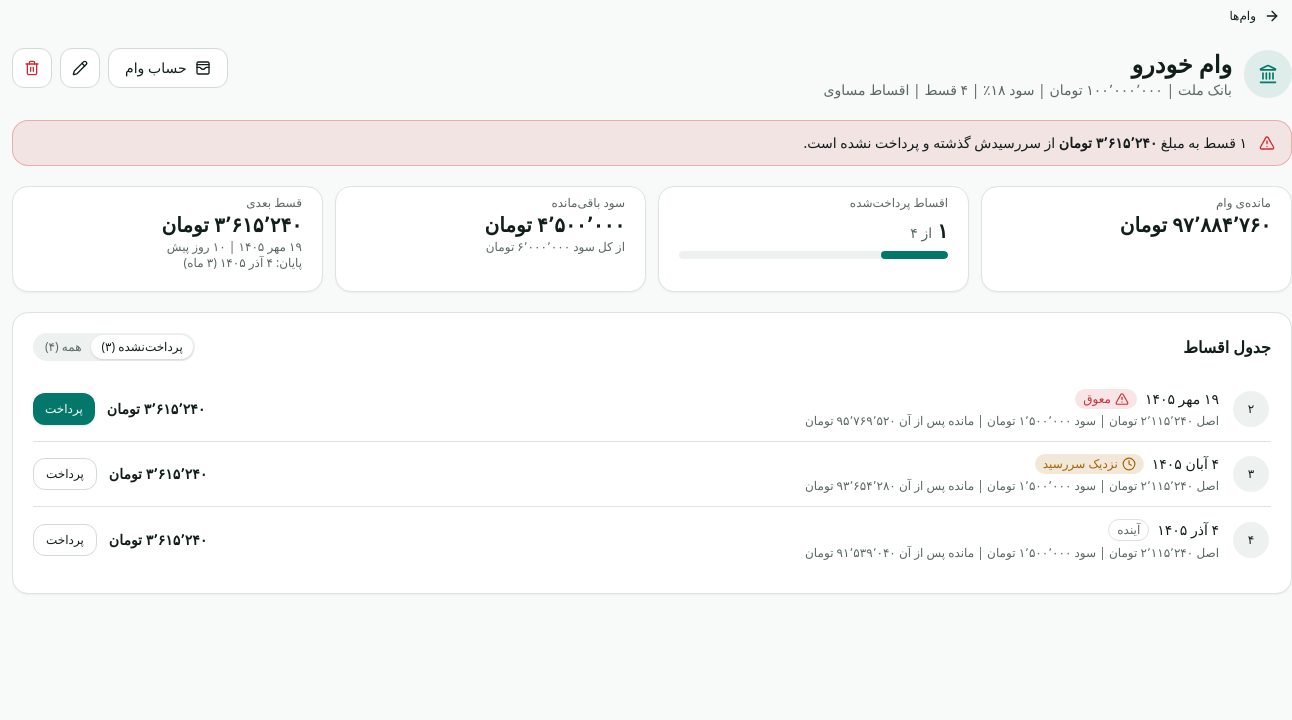
Scenario: LoanDetailPage › summarises the loan and lists unpaid installments first
Expected: the heading "وام خودرو" is shown, 1132,47 -> 1232,80
Expected: the message shows "۱ قسط به مبلغ", 12,120 -> 1291,166
Step 1. Click the radio button labelled "همه (۴)" → (63, 347), box 35,335 -> 92,359
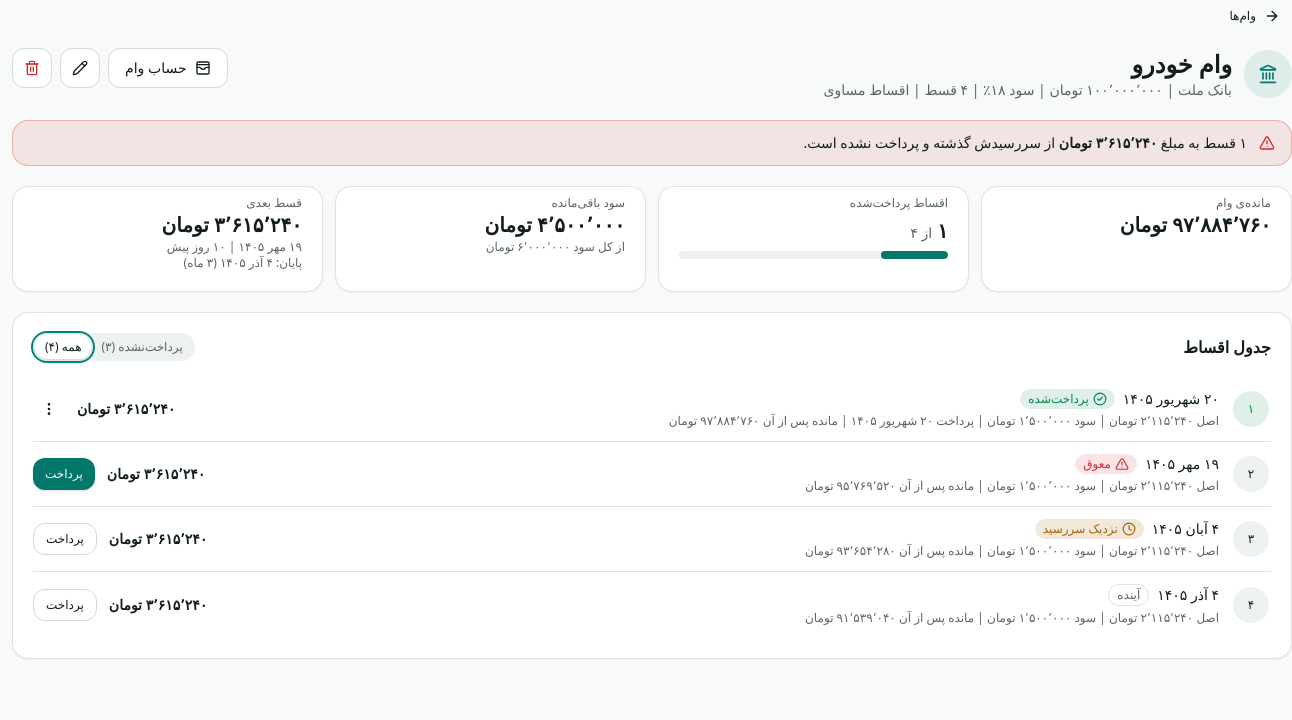
Expected: the number of list items is 4, 33,377 -> 1271,442; 33,442 -> 1271,507; 33,507 -> 1271,572; 33,572 -> 1271,638
Expected: the list item that starts with "۲۰ شهریور ۱۴۰۵" shows "پرداخت‌شده", 1028,390 -> 1089,407
